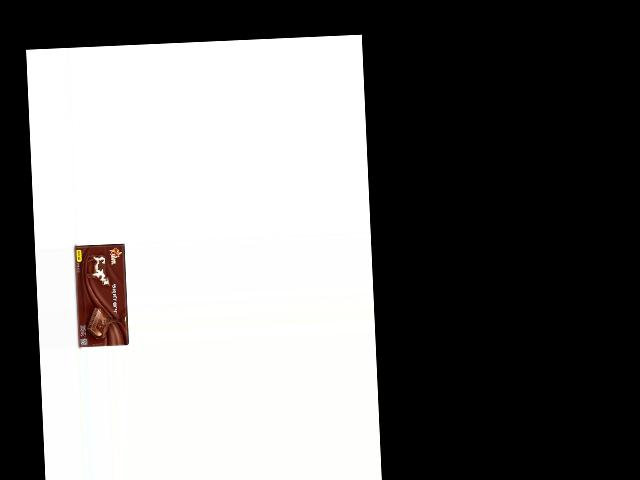chocolate: (73, 241, 129, 346)
